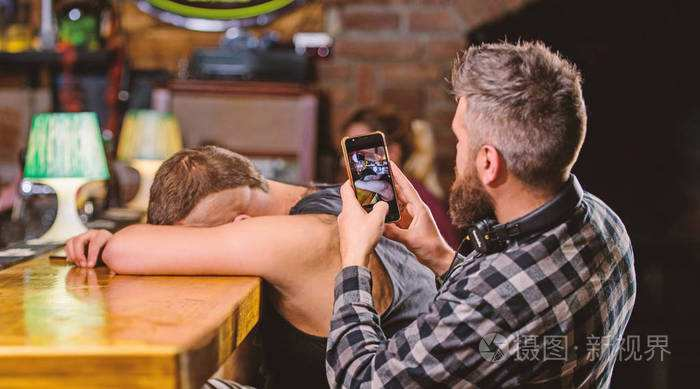taking photos: (334, 125, 446, 271)
